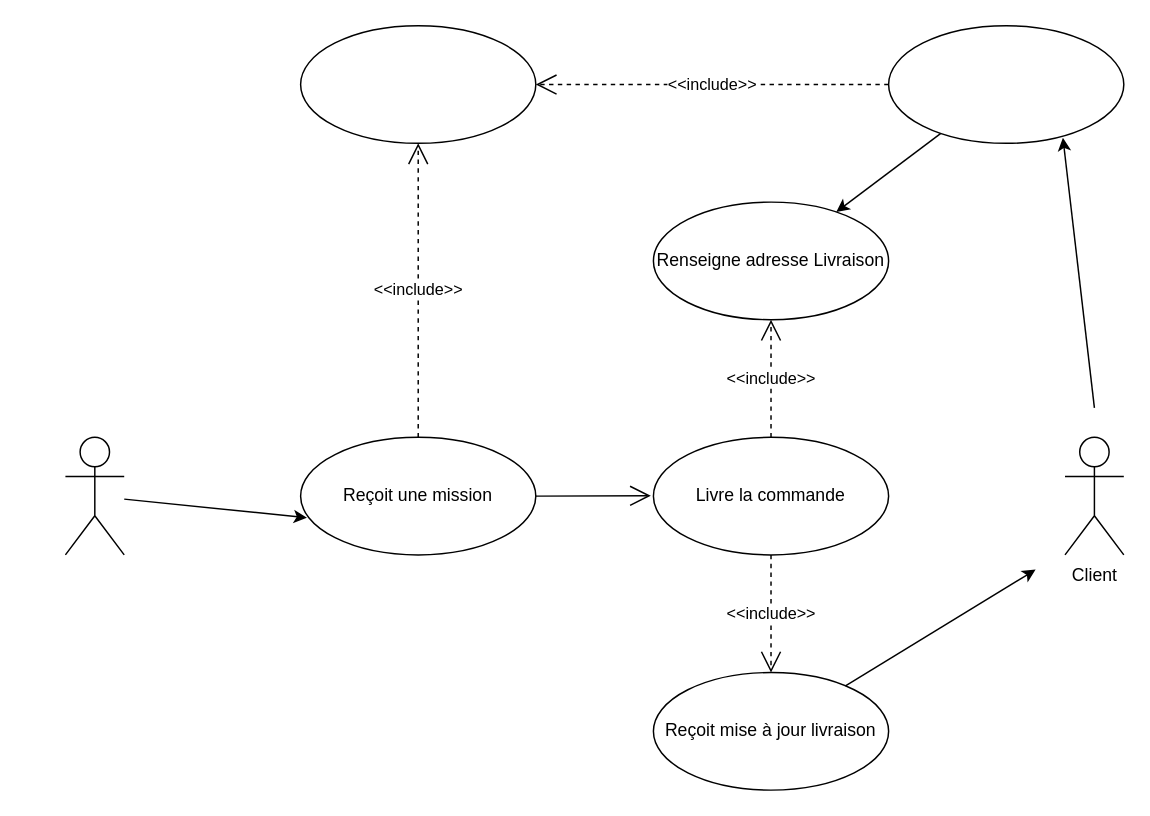
Some shapes in this 1150 by 816 pixel diagram are drawn without their labels. Each missing label, with the box of its shape:
Commande un plat: (887, 24, 1124, 143)
Livreur à domicile: (64, 436, 124, 555)
S'authentifier: (299, 24, 536, 143)
